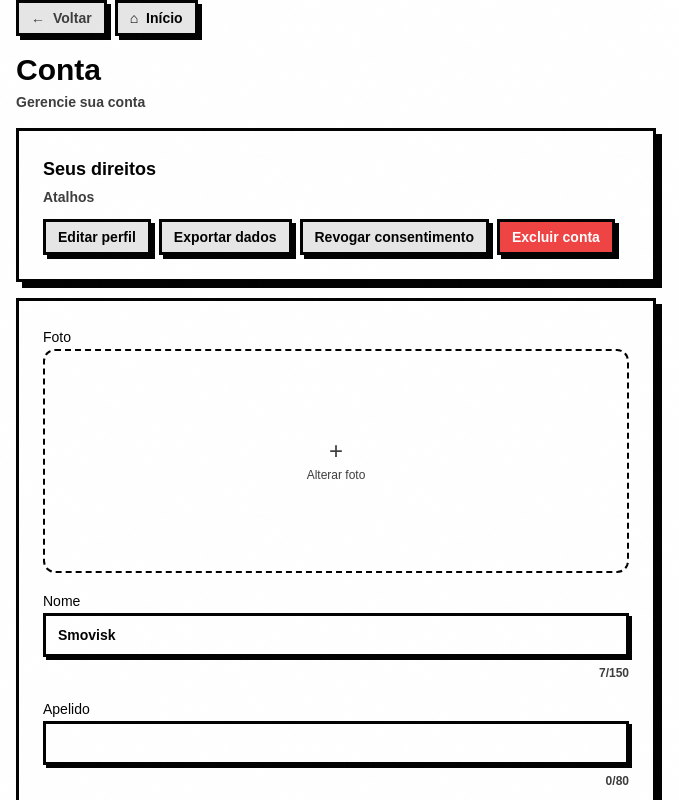
exclusão de conta › revoga consentimento e agenda exclusão
Click the button "Revogar consentimento" at (394, 237), box x1=300 y1=219 x2=489 y2=255
(page scrolled)
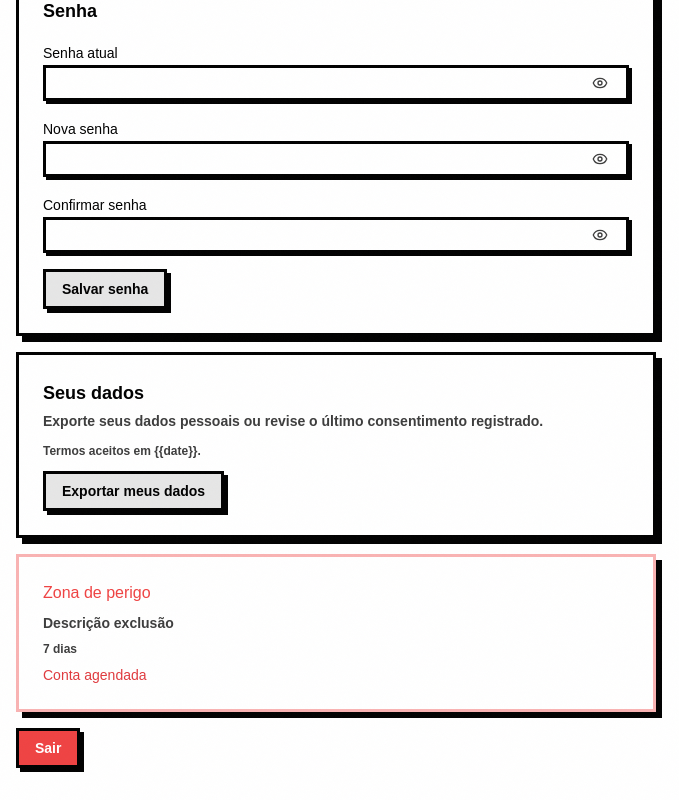
Expected: the text "Conta agendada" is shown, x1=43 y1=667 x2=146 y2=683
